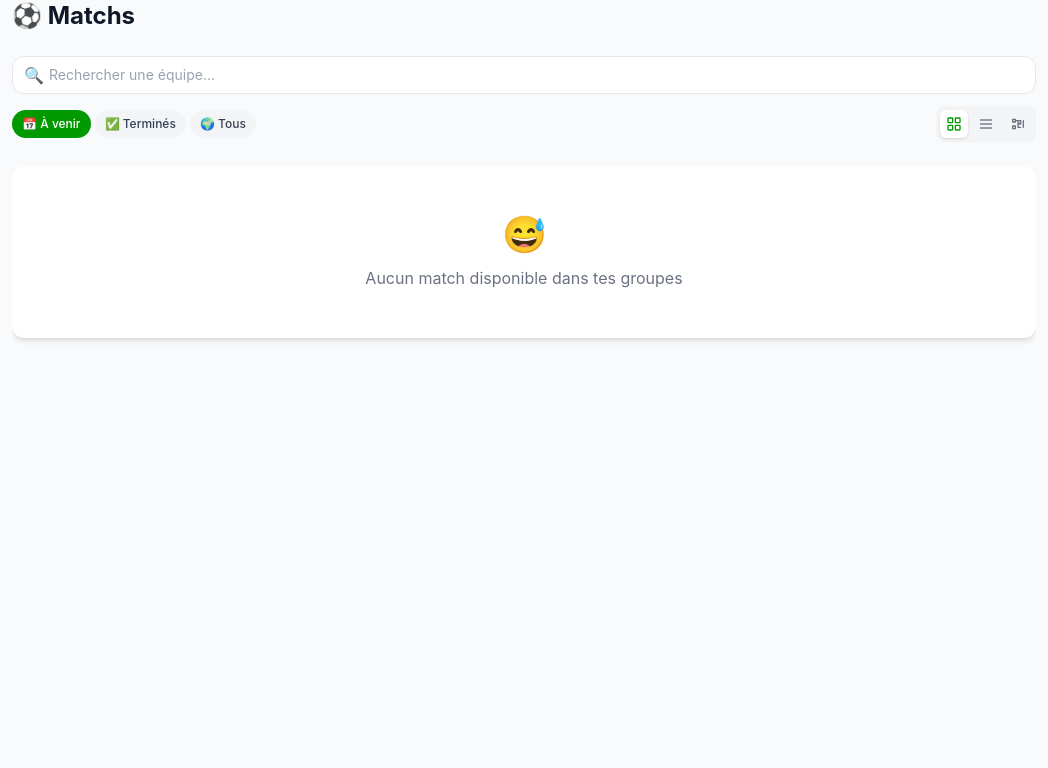
Test: Matches — pagination › filtre Tous : la page 1 montre les matchs les plus récents, pas les plus anciens
Click the button "🌍 Tous".
click(223, 124)  # box [190, 110, 256, 138]
(page scrolled)
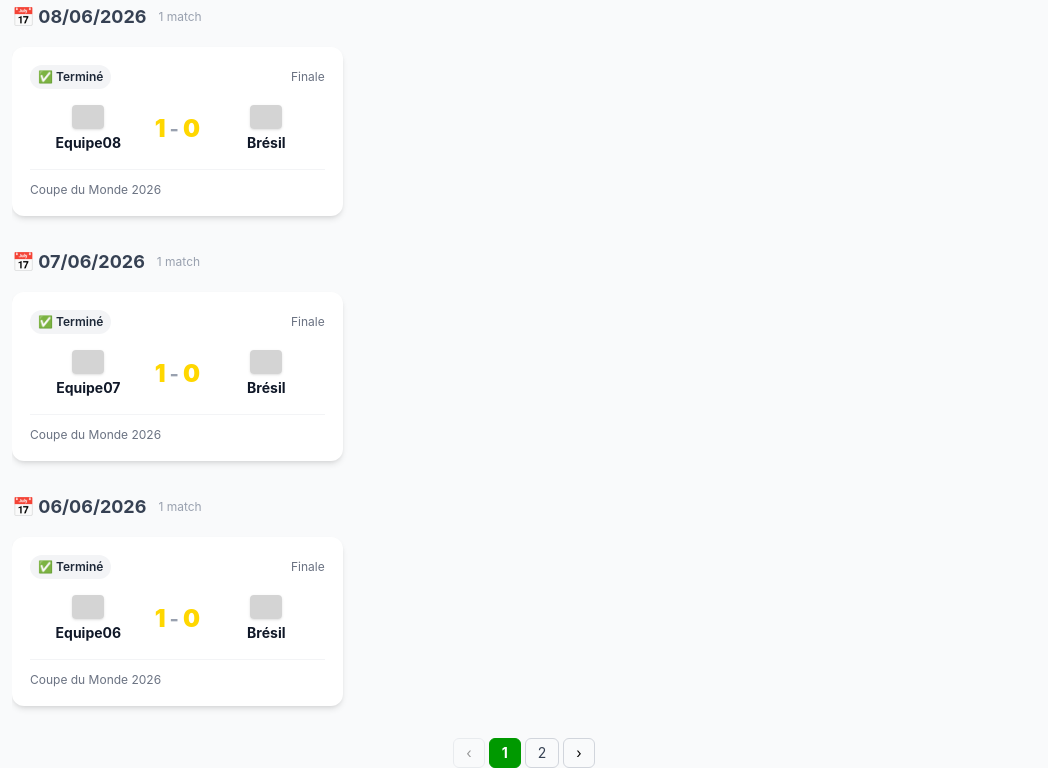
Expected: the text "Equipe01" is not shown
Click the button "2".
click(542, 753)  # box [525, 738, 559, 767]
(page scrolled)
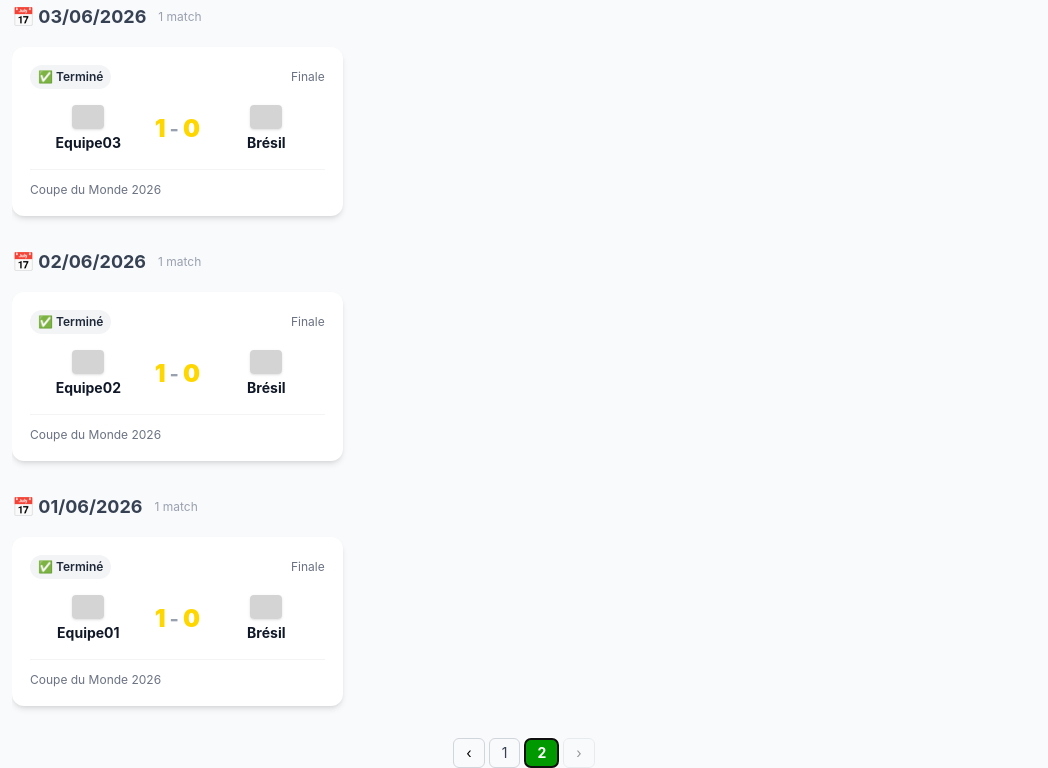
Now the text "Equipe01" is shown, box [57, 624, 120, 641]
